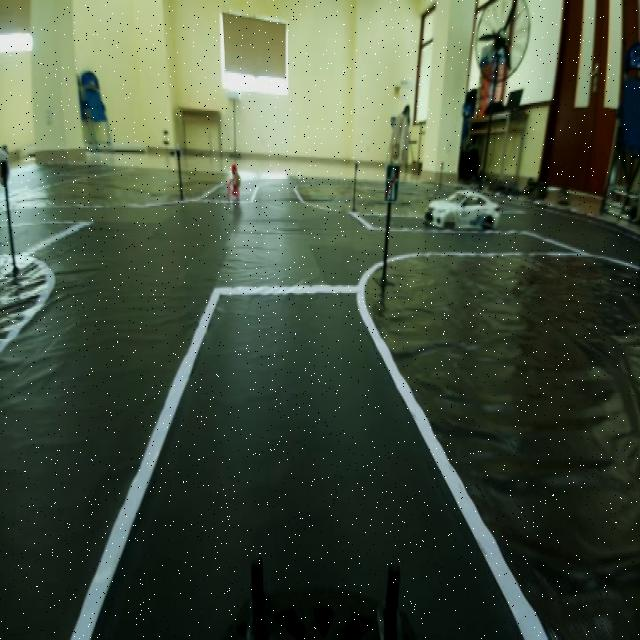highway_exit: (380, 156, 401, 205)
